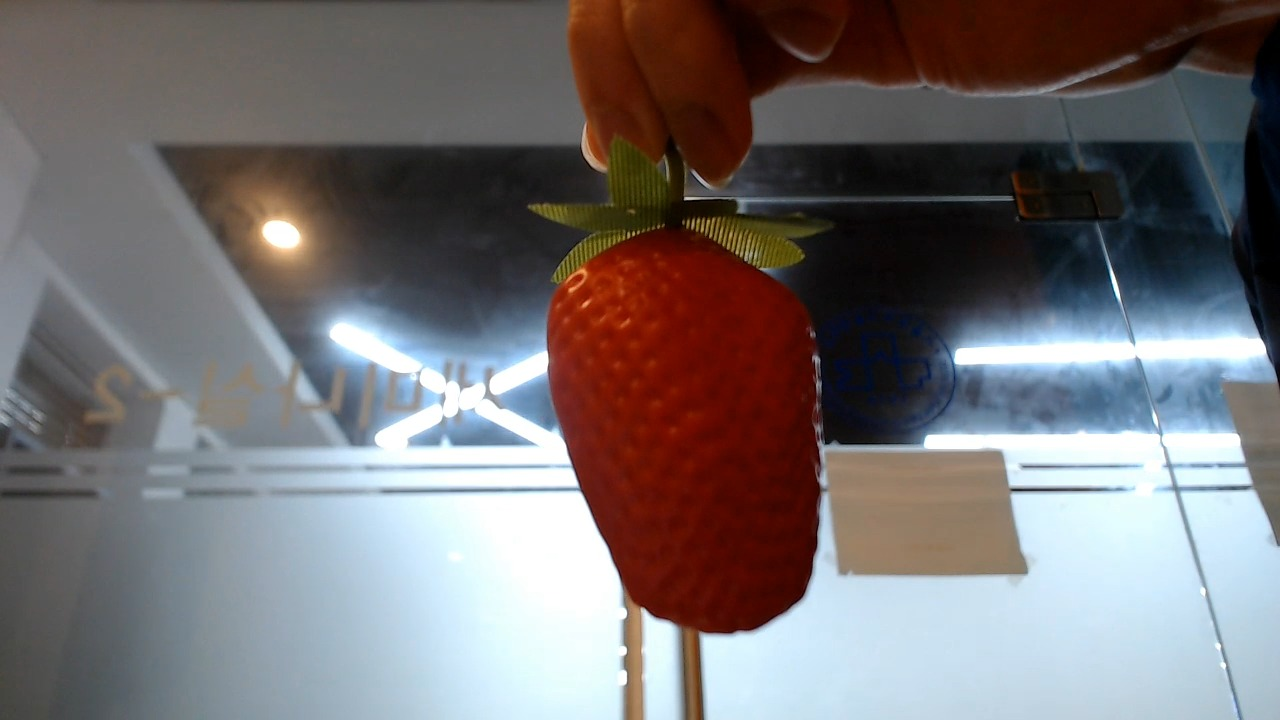strawberry: (519, 183, 837, 636)
